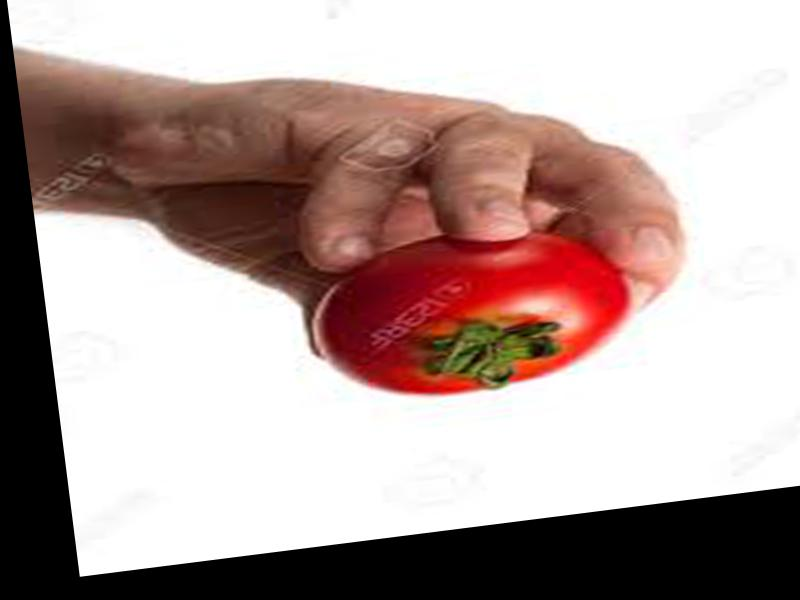Tomato: (307, 216, 639, 411)
